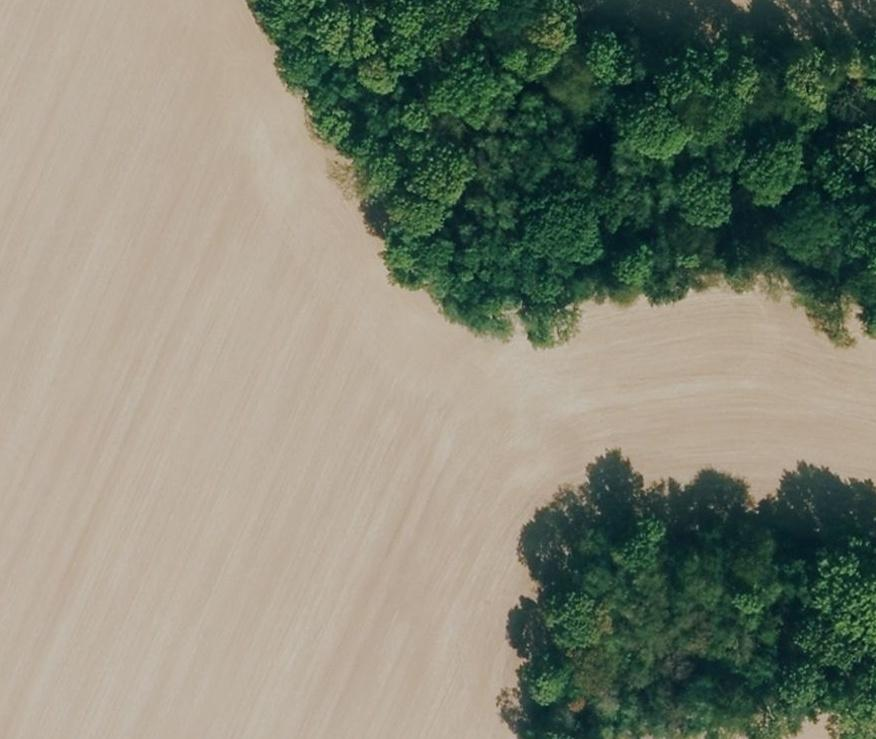field: (0, 3, 876, 737)
forest: (253, 3, 876, 341), (510, 508, 876, 736)
